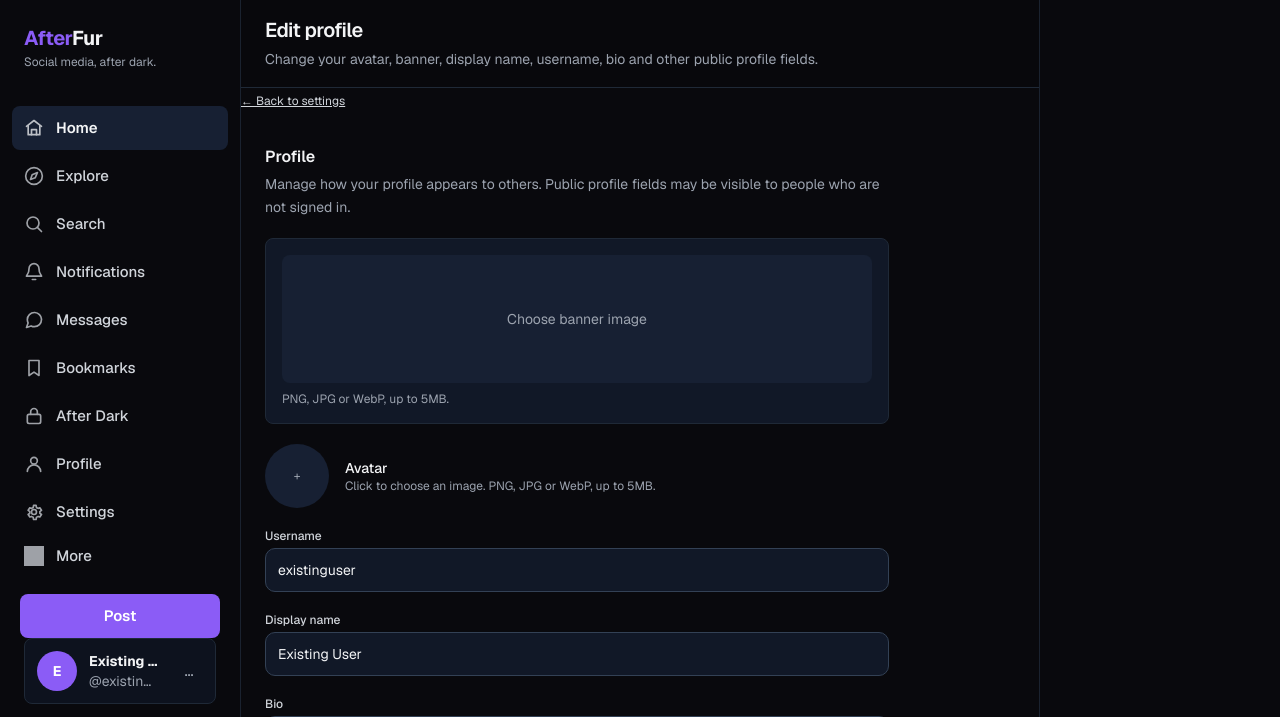
Test: Edit Profile page › Save persists changes through the existing architecture
Replace the text in the field labelled "Username" with "newusername" at (577, 570), box [265, 548, 889, 592]
(page scrolled)
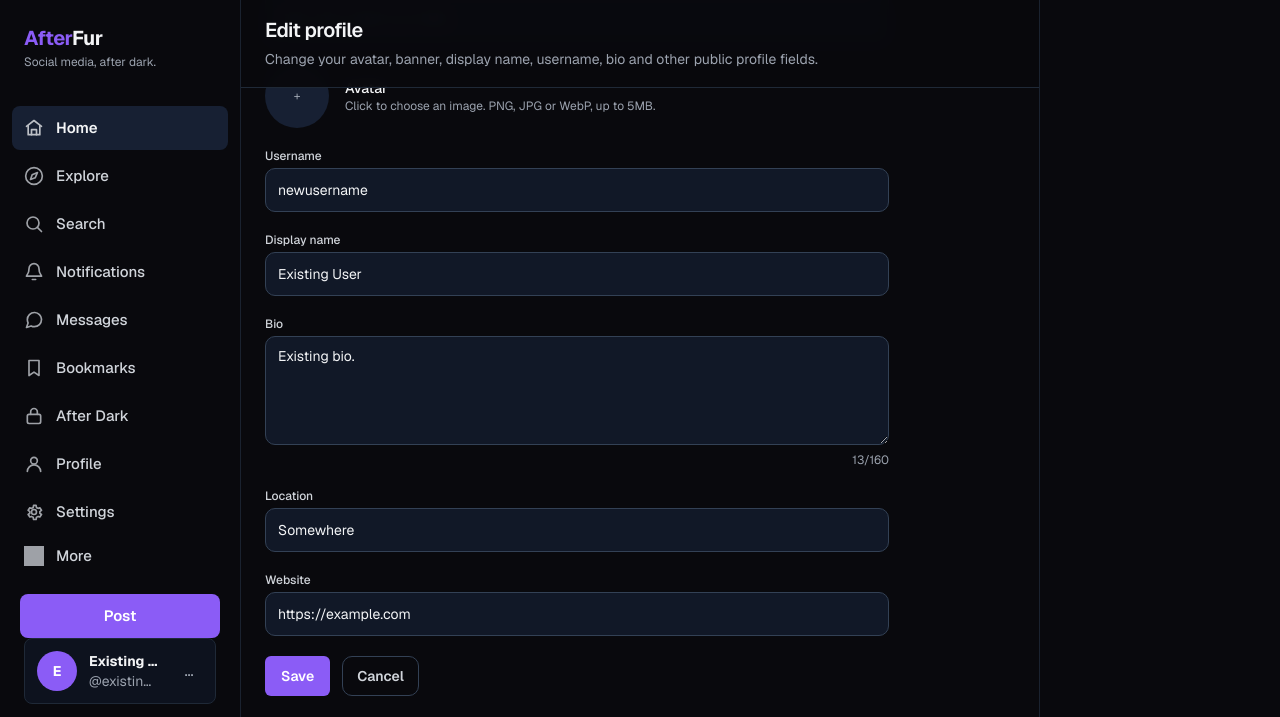
Click the button "Save".
click(298, 676)  # box [265, 656, 330, 696]
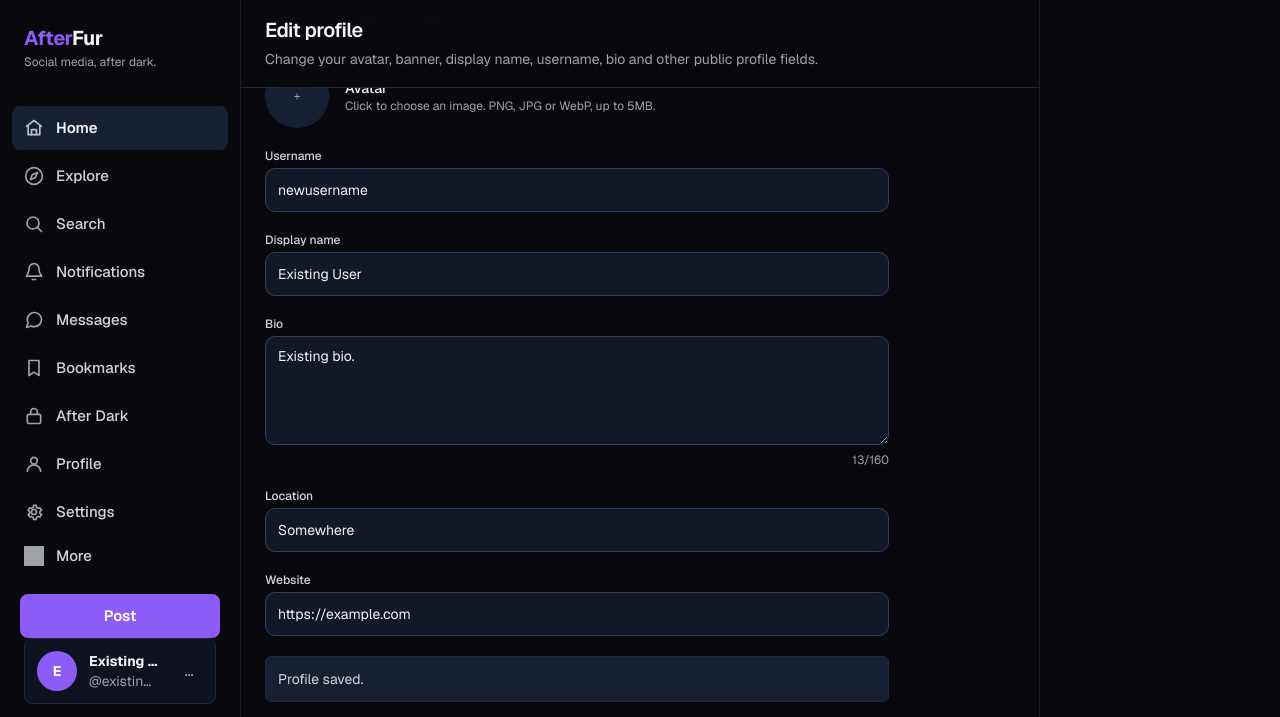
Expected: the text "Profile saved." is shown, [265, 656, 889, 702]
